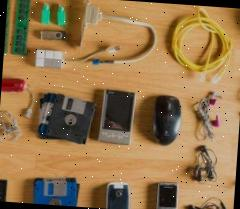electronic: (67, 0, 159, 81), (164, 4, 238, 96), (29, 82, 104, 157), (90, 78, 146, 154), (142, 88, 193, 159), (192, 84, 240, 149), (190, 146, 233, 198), (0, 77, 45, 126), (34, 0, 75, 50), (140, 174, 191, 209), (97, 176, 138, 209), (32, 46, 68, 78), (188, 189, 233, 209)
